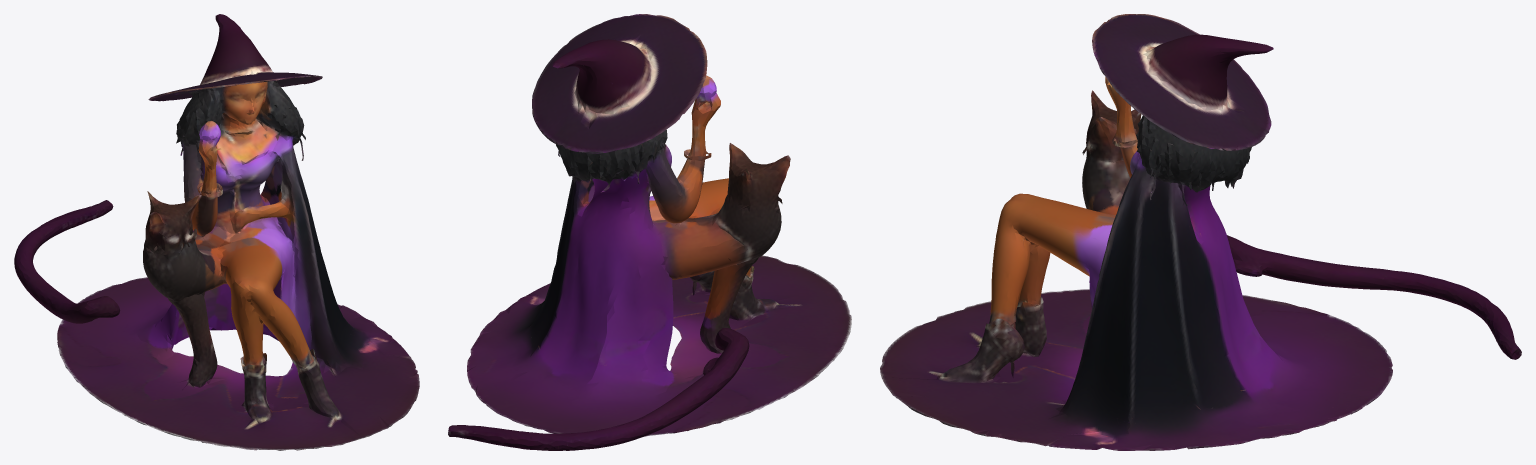
The model's file is bruxa.glb.
The picture shows the model from 3 angles, left to right: view 1: azimuth 30°, elevation 25°; view 2: azimuth 150°, elevation 25°; view 3: azimuth 270°, elevation 25°; orthographic projection. The views are drawn at different scales.
Visible parts, largest first — view 1: bruxa_v3; view 2: bruxa_v3; view 3: bruxa_v3.
Part boxes in pixels (<box>): bruxa_v3: <box>14,14,419,450</box>; bruxa_v3: <box>448,14,851,450</box>; bruxa_v3: <box>880,14,1521,450</box>.
Bounding box in the file's own units: 1.13 × 1.13 × 1.9.
1 material, 1 textured.
